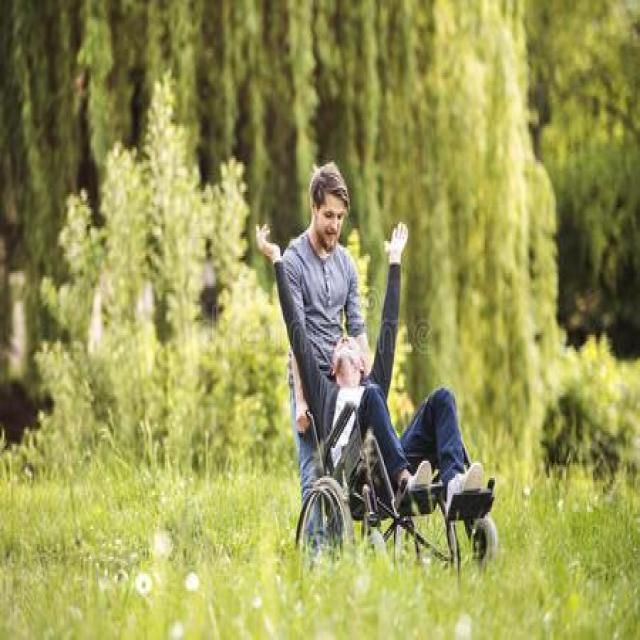wheelchairs: (285, 389, 502, 606)
